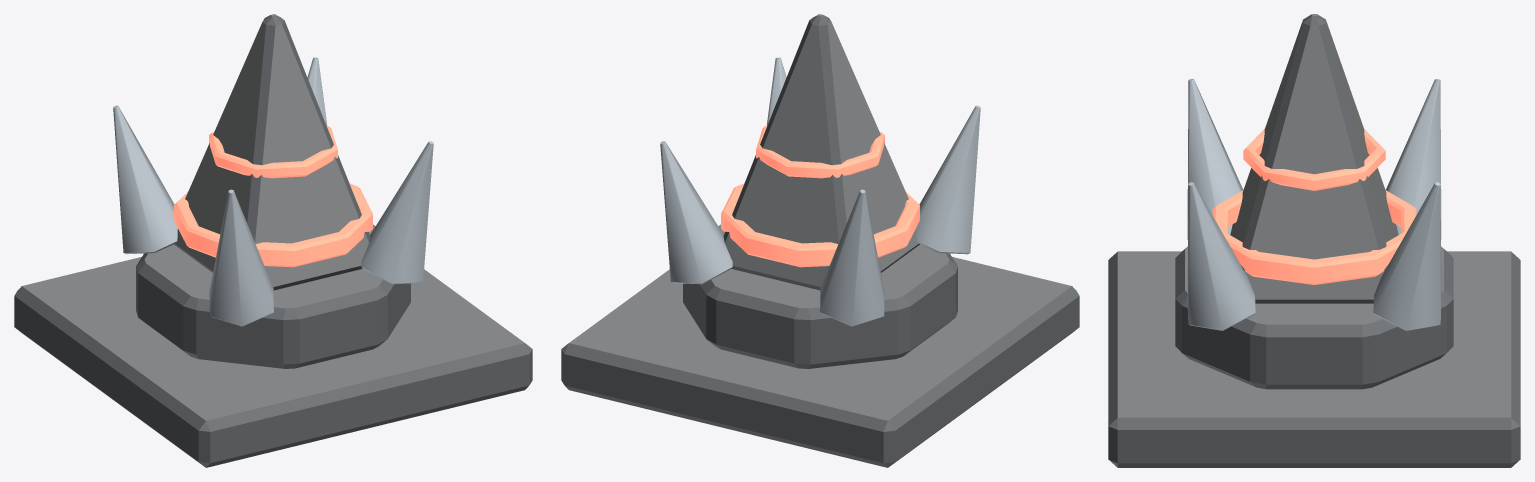
File: R4X_DamageBooster_LOD1.glb
3 renders of one model, left to right at view 1: azimuth 30°, elevation 25°; view 2: azimuth 150°, elevation 25°; view 3: azimuth 270°, elevation 25°, orthographic. The views are drawn at different scales.
Visible parts, largest first — view 1: R4X_DamageBooster_LOD1; view 2: R4X_DamageBooster_LOD1; view 3: R4X_DamageBooster_LOD1.
Boxes of the visible parts, <box> form: R4X_DamageBooster_LOD1: <box>14,14,532,467</box>; R4X_DamageBooster_LOD1: <box>561,14,1079,467</box>; R4X_DamageBooster_LOD1: <box>1108,14,1520,467</box>.
Bounding box in the file's own units: 0.52 × 0.515 × 0.52.
